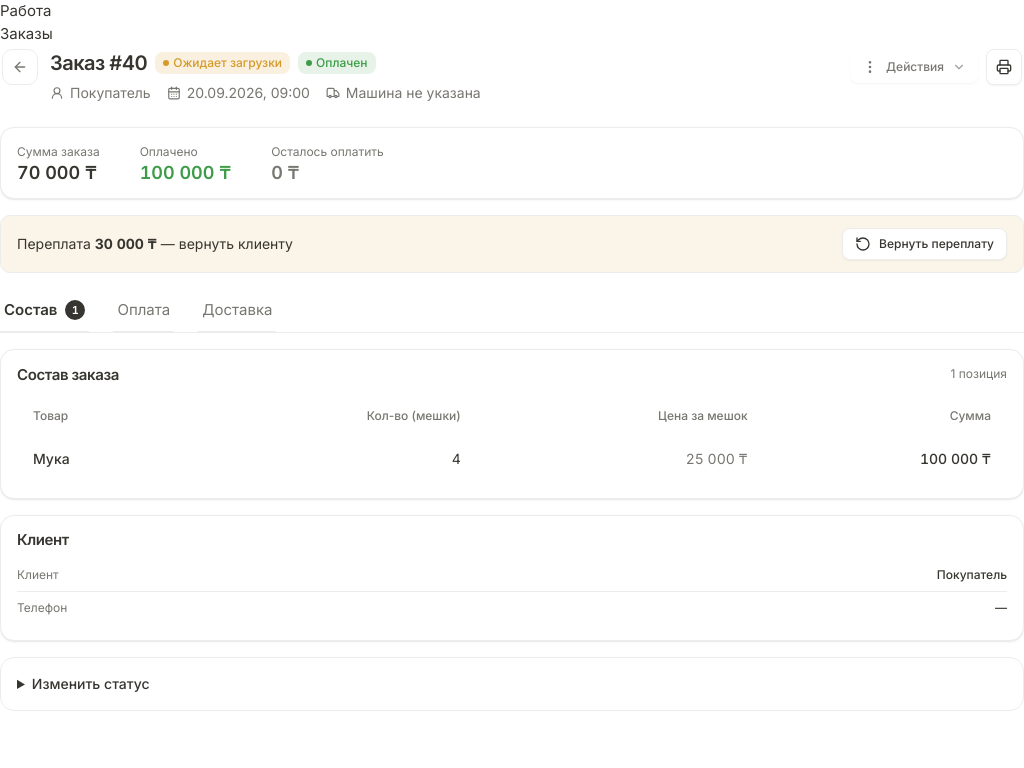
Test case: offers to return an overpayment to the client
Expected: the heading "Заказ #40" is shown, [50, 49, 147, 77]
Expected: the text "Переплата 30 000 ₸ — вернуть клиенту" is shown, [17, 234, 293, 254]
Click the button "Вернуть переплату" at (925, 244), box [842, 228, 1007, 260]
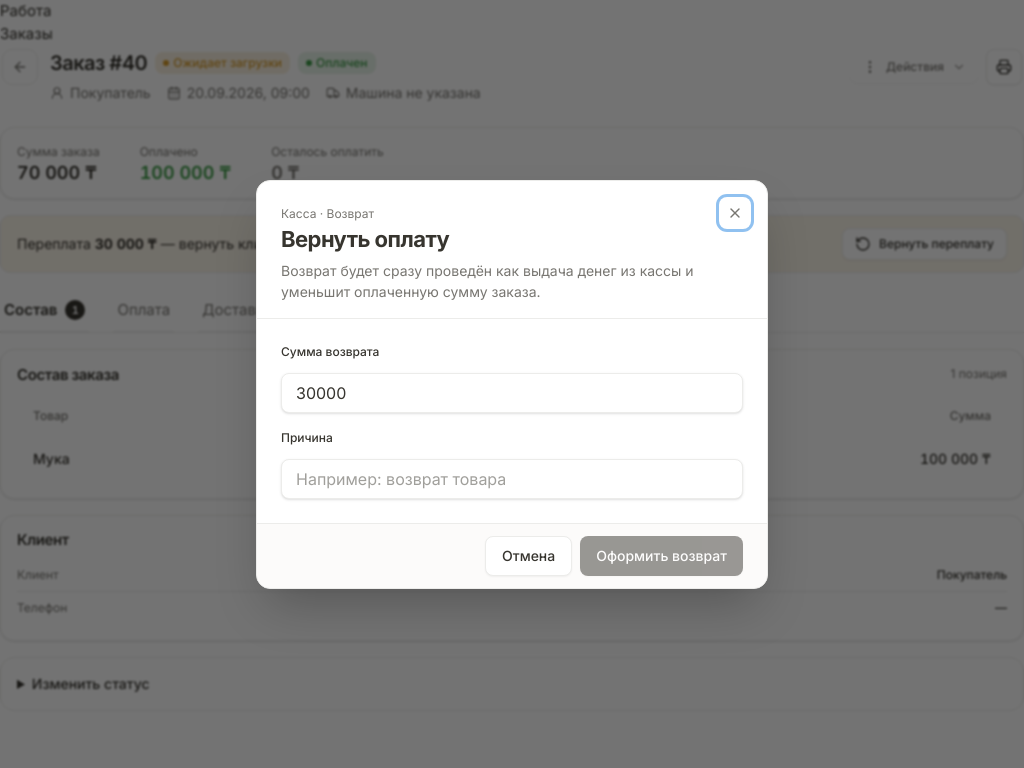
Expected: the number field labelled "Сумма возврата" holds "30000", [281, 372, 743, 412]
